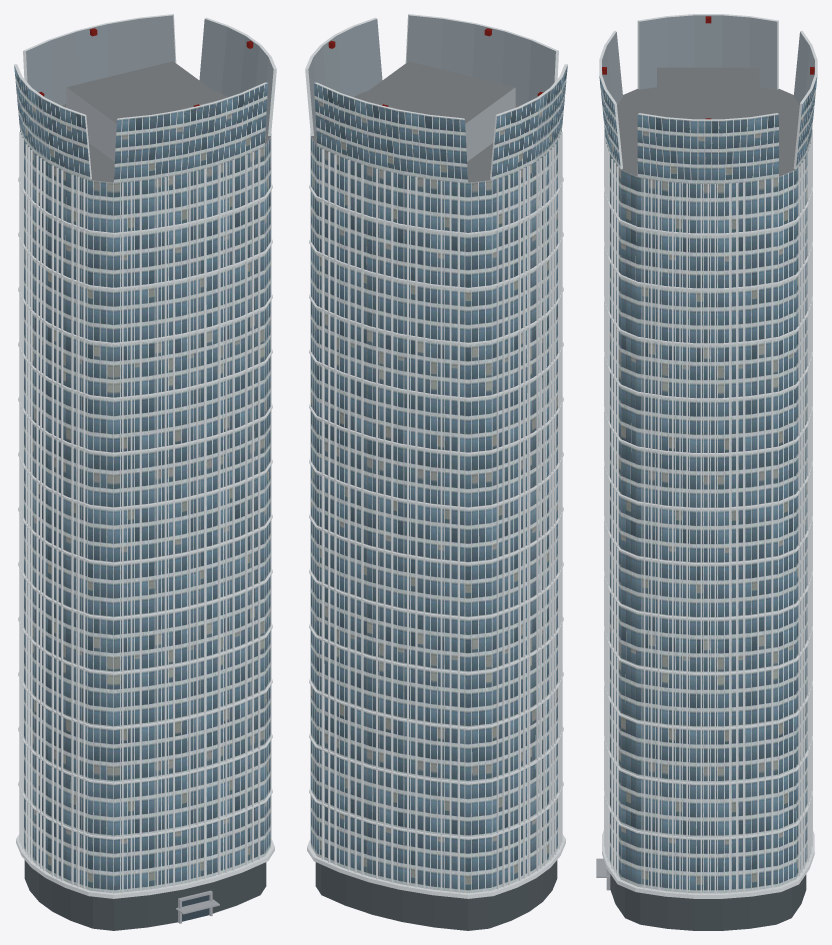
The model's file is atago_green_hills_mori_tower.glb.
3 renders of one model, left to right at view 1: azimuth 30°, elevation 25°; view 2: azimuth 150°, elevation 25°; view 3: azimuth 270°, elevation 25°, orthographic.
Parts seen in each view (by area): view 1: atago_green_hills_mori_tower; view 2: atago_green_hills_mori_tower; view 3: atago_green_hills_mori_tower.
Part boxes in pixels (left/top/right/bottom): atago_green_hills_mori_tower: left=14, top=14, right=276, bottom=930; atago_green_hills_mori_tower: left=305, top=14, right=567, bottom=930; atago_green_hills_mori_tower: left=596, top=14, right=817, bottom=930.
Bounding box in the file's own units: 52.51 × 187 × 46.
2 materials, 2 textured.
